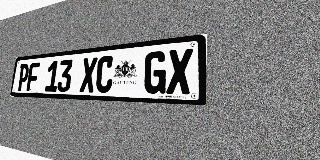1: (45, 60, 60, 92)
3: (57, 59, 73, 92)
C: (95, 55, 115, 93)
F: (26, 62, 40, 91)
G: (143, 50, 167, 94)
P: (17, 63, 30, 91)
X: (166, 48, 193, 94), (79, 57, 98, 93)
